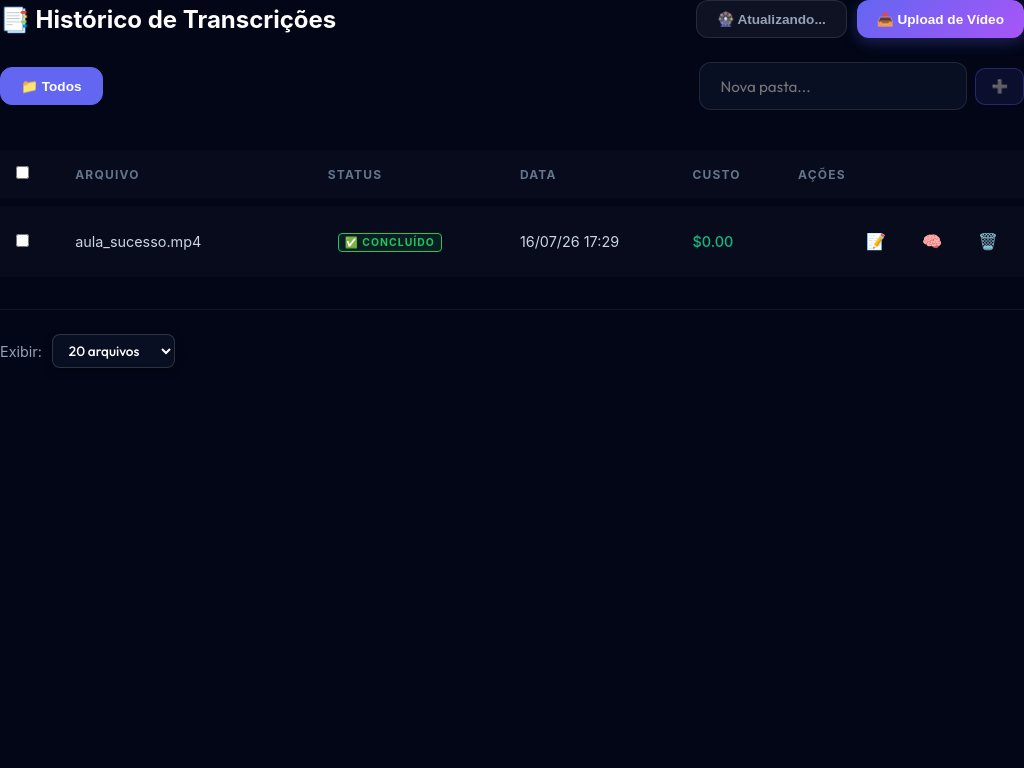
Scenario: TranscriptionHistory - Paginação e Deleção Premium › deve permitir copiar o texto transcrito ao clicar no botão Copiar e fechar ao clicar em Fechar
expect the text "aula_sucesso.mp4" is shown: met, box [75,233,201,250]
Click the button titled "Visualizar transcrição": (876, 242) [856,226,896,257]
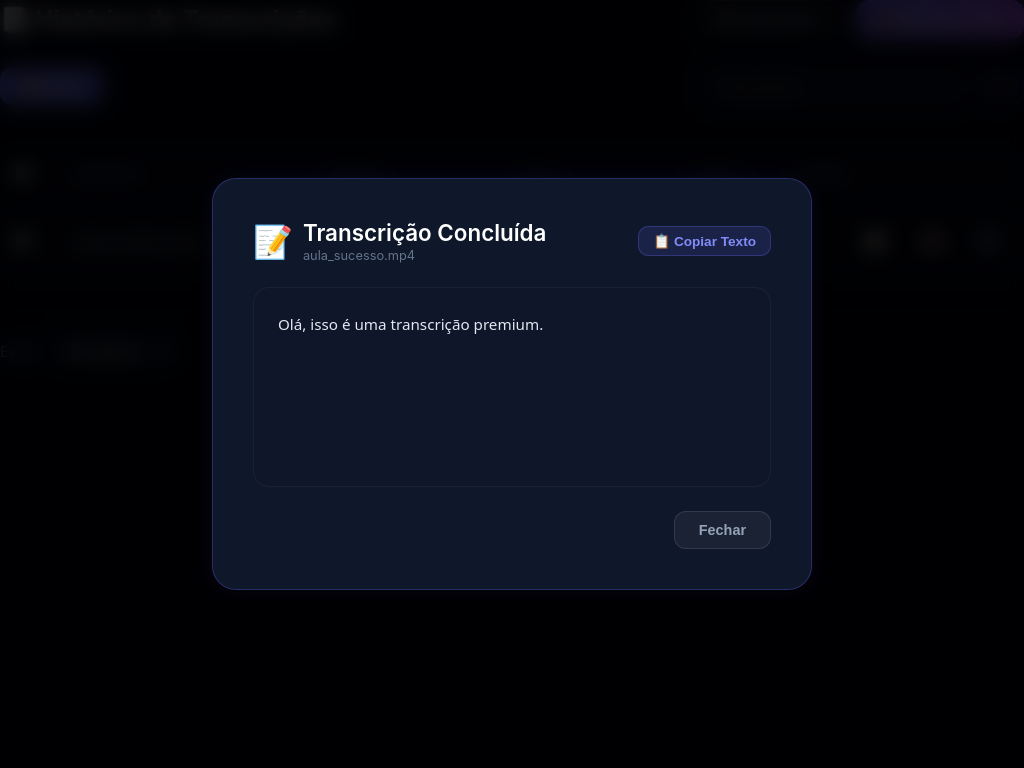
Clicar em Copiar Texto
Click the button "📋 Copiar Texto": (705, 241) [638,226,771,256]
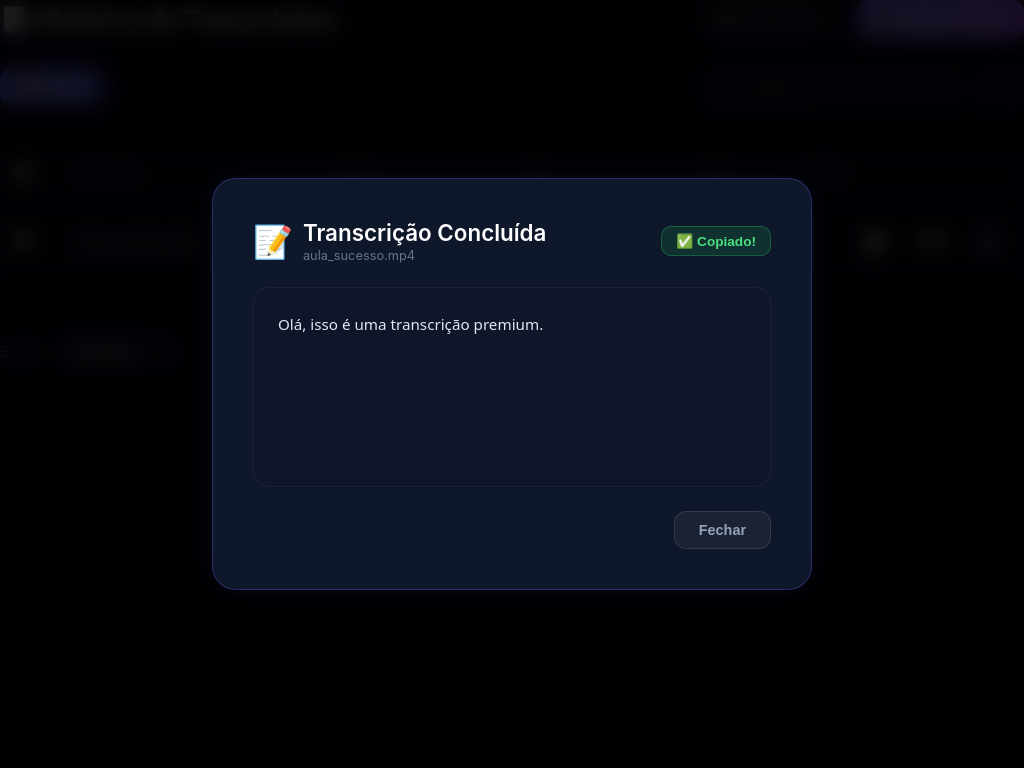
Clicar em Fechar deve ocultar o modal
Click the button "Fechar": (722, 530) [674,511,771,549]
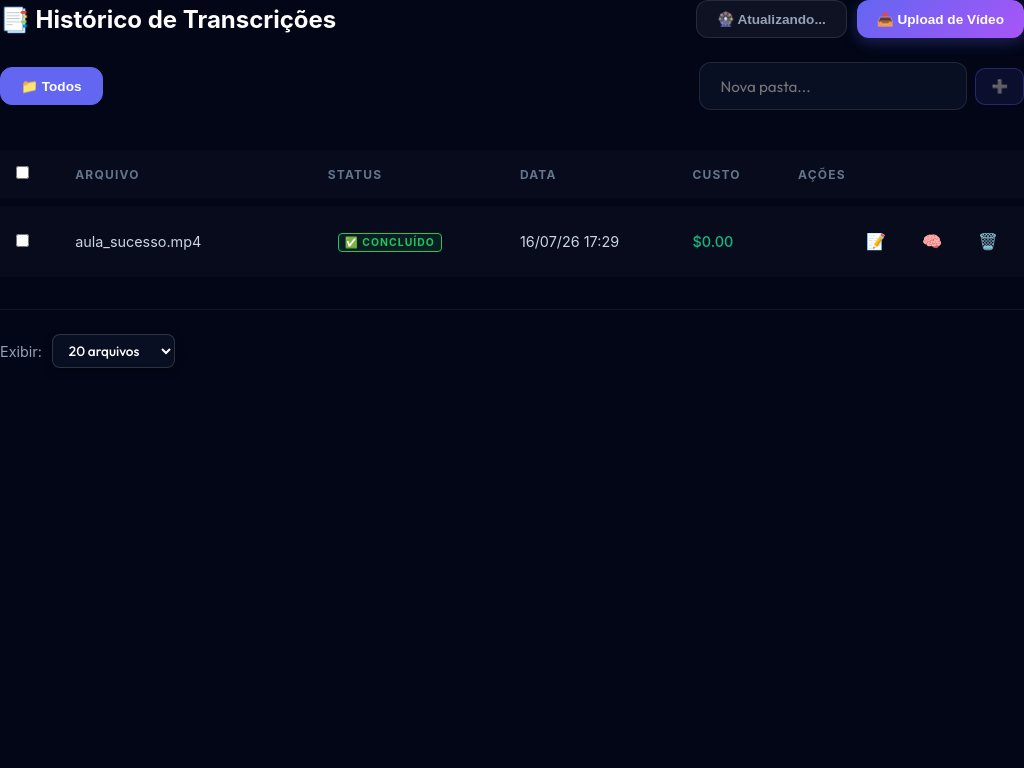
expect the heading "Transcrição Concluída" is gone: met
